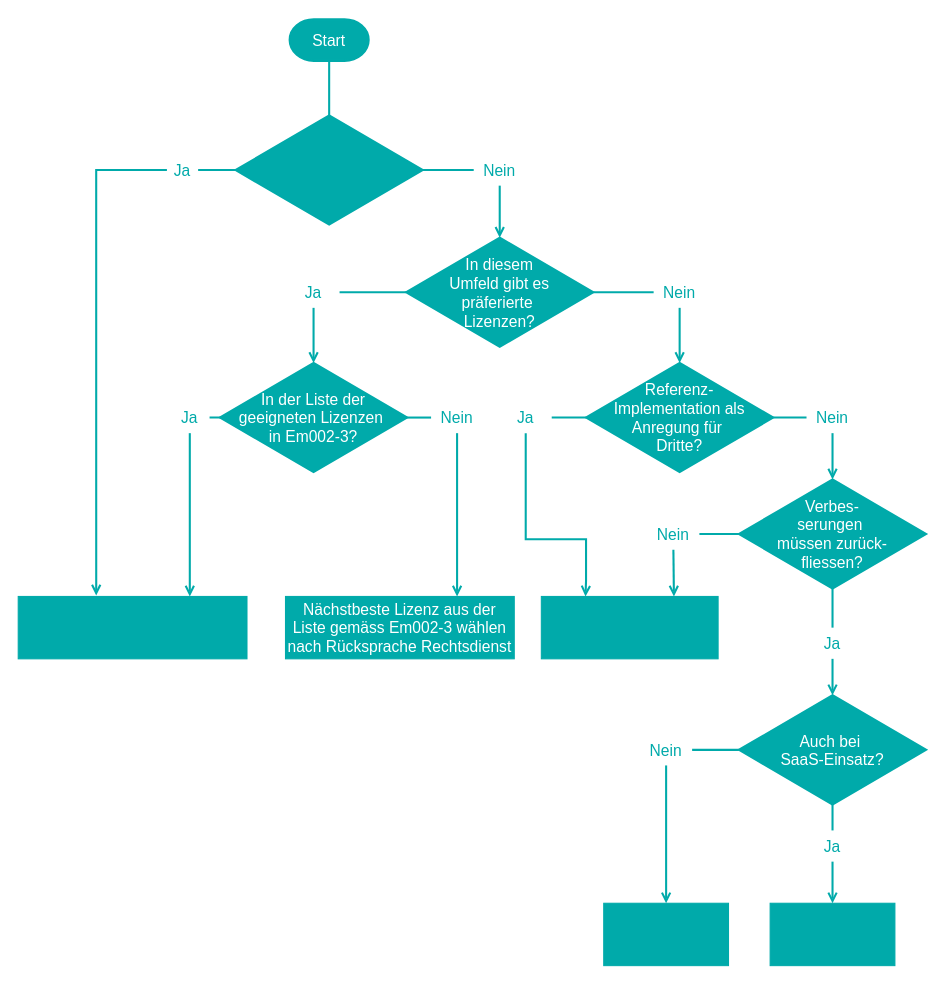
Some shapes in this 945 by 984 pixel diagram are drawn without their labels. Each missing label, with the box of its shape:
AGPL: (769, 902, 895, 966)
Bill of materials erzwingt Lizenz?: (234, 114, 423, 225)
Erzwungene / präferierte Lizenz wählen: (17, 595, 247, 659)
GPL, EUPL: (603, 902, 729, 966)
LGPL oder liberale Lizenz: MIT , BSD, Apache: (540, 595, 718, 659)
